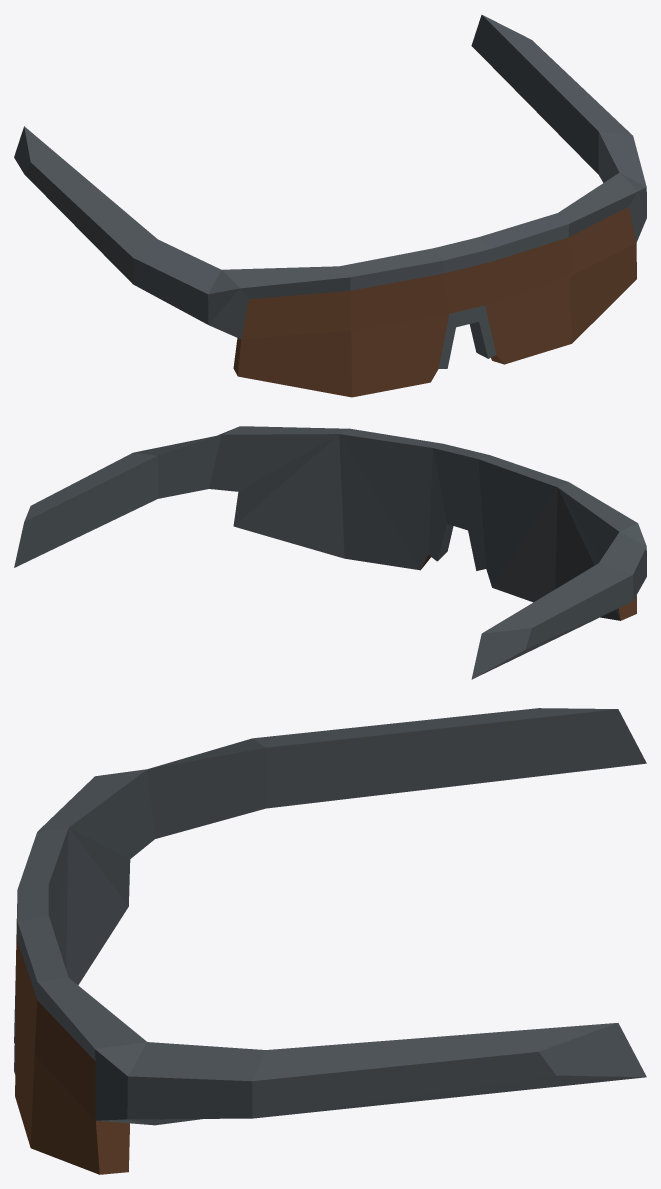
File: SM_Chr_Attach_SunGlasses_01_Male.fbx
3 views of the same model, one above another, from view 1: azimuth 30°, elevation 25°; view 2: azimuth 150°, elevation 25°; view 3: azimuth 270°, elevation 25° (orthographic). The views are drawn at different scales.
Visible parts, largest first — view 1: SM_Chr_Attach_SunGlasses_01_Male; view 2: SM_Chr_Attach_SunGlasses_01_Male; view 3: SM_Chr_Attach_SunGlasses_01_Male.
Part boxes in pixels (x1,y1,x2,y2): SM_Chr_Attach_SunGlasses_01_Male: (14,15,646,397); SM_Chr_Attach_SunGlasses_01_Male: (14,426,646,679); SM_Chr_Attach_SunGlasses_01_Male: (14,708,646,1174).
Bounding box in the file's own units: 23.29 × 6.69 × 18.13.
